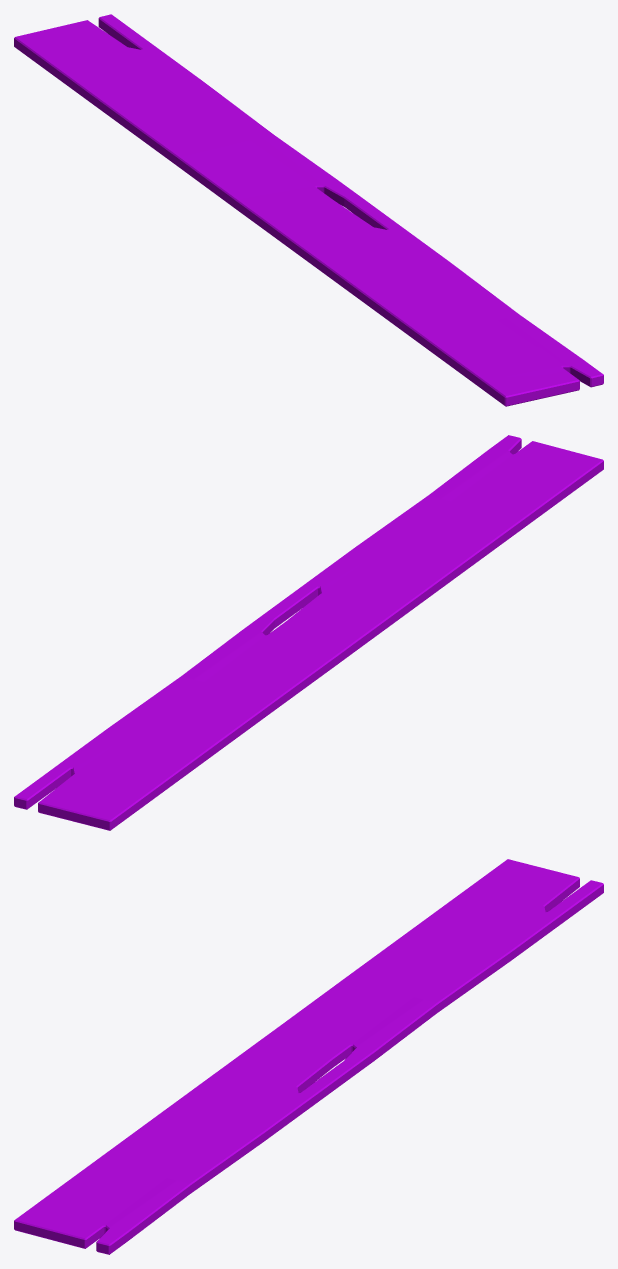
Rendered from Board_01_Long.fbx.
The picture shows the model from 3 angles, top to bottom: view 1: azimuth 30°, elevation 25°; view 2: azimuth 150°, elevation 25°; view 3: azimuth 330°, elevation 25°; orthographic projection.
Parts seen in each view (by area): view 1: Board_01_Long; view 2: Board_01_Long; view 3: Board_01_Long.
Boxes of the visible parts, x1,y1,x2,y2 form: Board_01_Long: [14, 14, 603, 406]; Board_01_Long: [14, 435, 603, 830]; Board_01_Long: [14, 859, 603, 1254].
Bounding box in the file's own units: 83.73 × 9.02 × 733.
